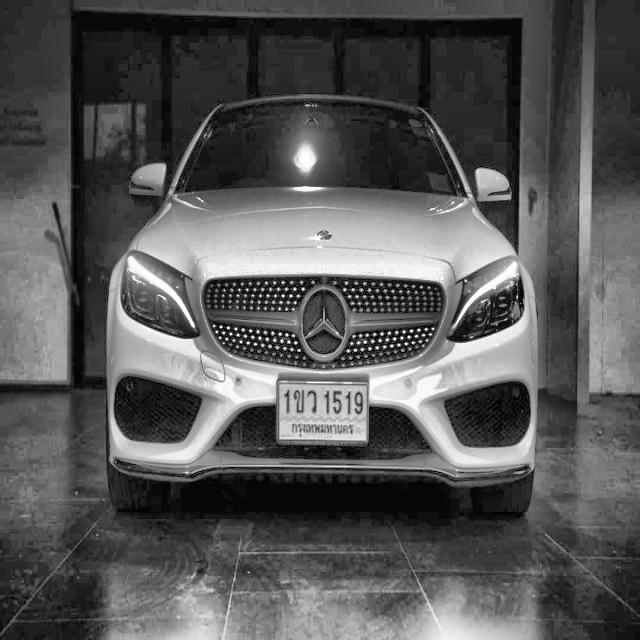license-plate: (277, 372, 370, 445)
